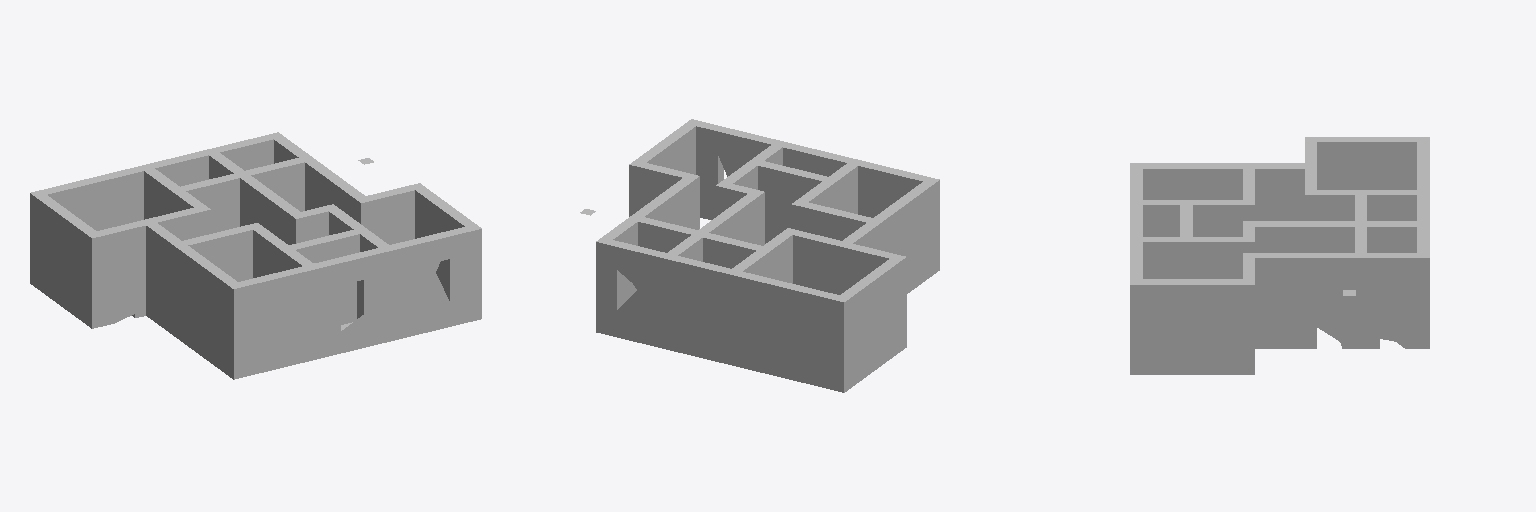
File: walls.obj
3 views of the same model, side by side, from view 1: azimuth 30°, elevation 25°; view 2: azimuth 150°, elevation 25°; view 3: azimuth 270°, elevation 25° (orthographic).
Visible parts, largest first — view 1: walls_Cube.001; view 2: walls_Cube.001; view 3: walls_Cube.001.
Boxes of the visible parts, x1,y1,x2,y2 form: walls_Cube.001: [30, 132, 481, 379]; walls_Cube.001: [580, 119, 939, 392]; walls_Cube.001: [1130, 137, 1429, 374].
Bounding box in the file's own units: 12.27 × 3.5 × 10.51.